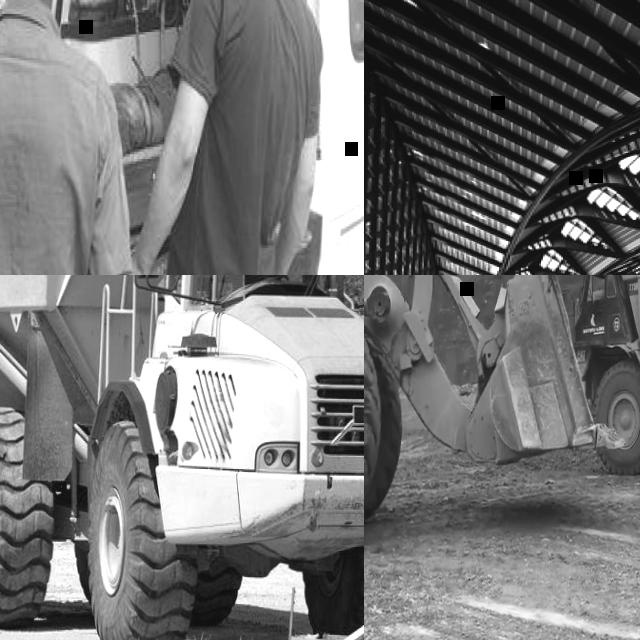Hardhat: (126, 0, 325, 275), (0, 0, 133, 275)
NO-Safety Vest: (172, 0, 298, 275), (0, 27, 87, 275)
machinery: (0, 275, 364, 640), (364, 275, 627, 557)
vehicle: (0, 0, 364, 275)
